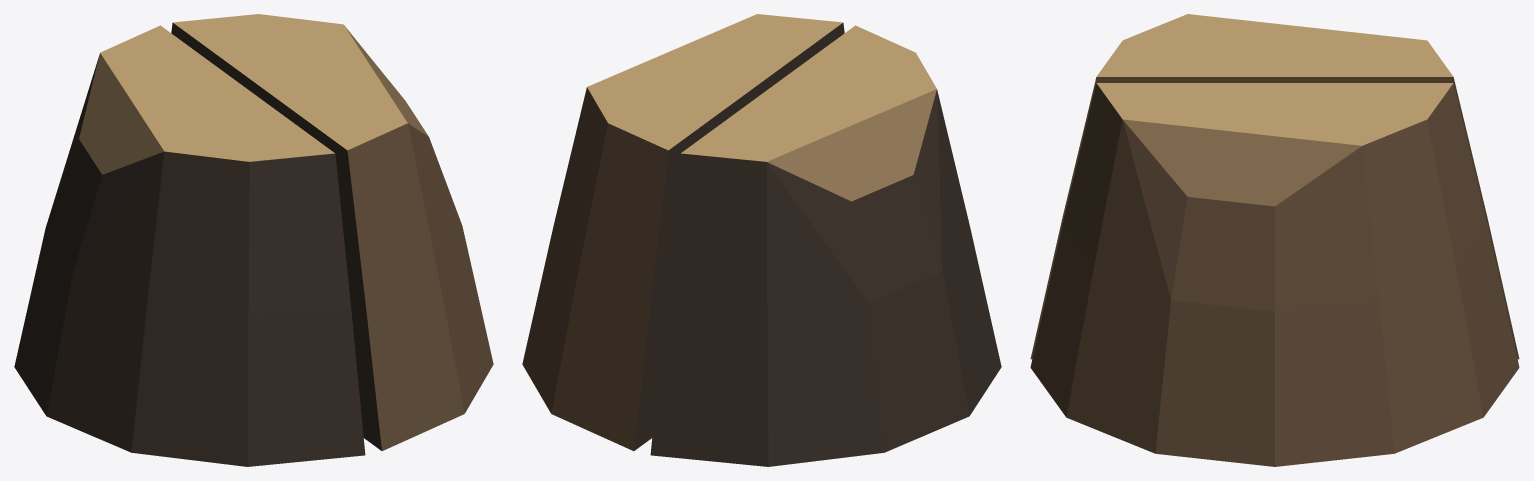
File: TW_PROP_STUMP_SPLIT_A_LOD0.glb
The picture shows the model from 3 angles, left to right: view 1: azimuth 30°, elevation 25°; view 2: azimuth 150°, elevation 25°; view 3: azimuth 270°, elevation 25°; orthographic projection. The views are drawn at different scales.
Parts seen in each view (by area): view 1: TW_PROP_STUMP_SPLIT_A_LOD0; view 2: TW_PROP_STUMP_SPLIT_A_LOD0; view 3: TW_PROP_STUMP_SPLIT_A_LOD0.
Part boxes in pixels (box(x1,y1,x2,y2)): TW_PROP_STUMP_SPLIT_A_LOD0: box(14, 14, 493, 466); TW_PROP_STUMP_SPLIT_A_LOD0: box(522, 14, 1001, 466); TW_PROP_STUMP_SPLIT_A_LOD0: box(1030, 14, 1519, 466).
Size of the model in its own units: 0.782 by 0.5 by 0.7814.
1 material, 1 textured.
